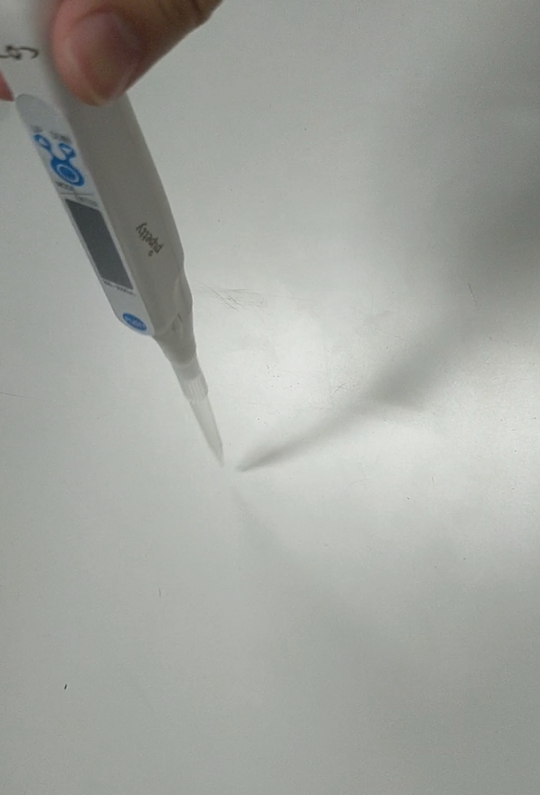pipette: (1, 1, 220, 378)
